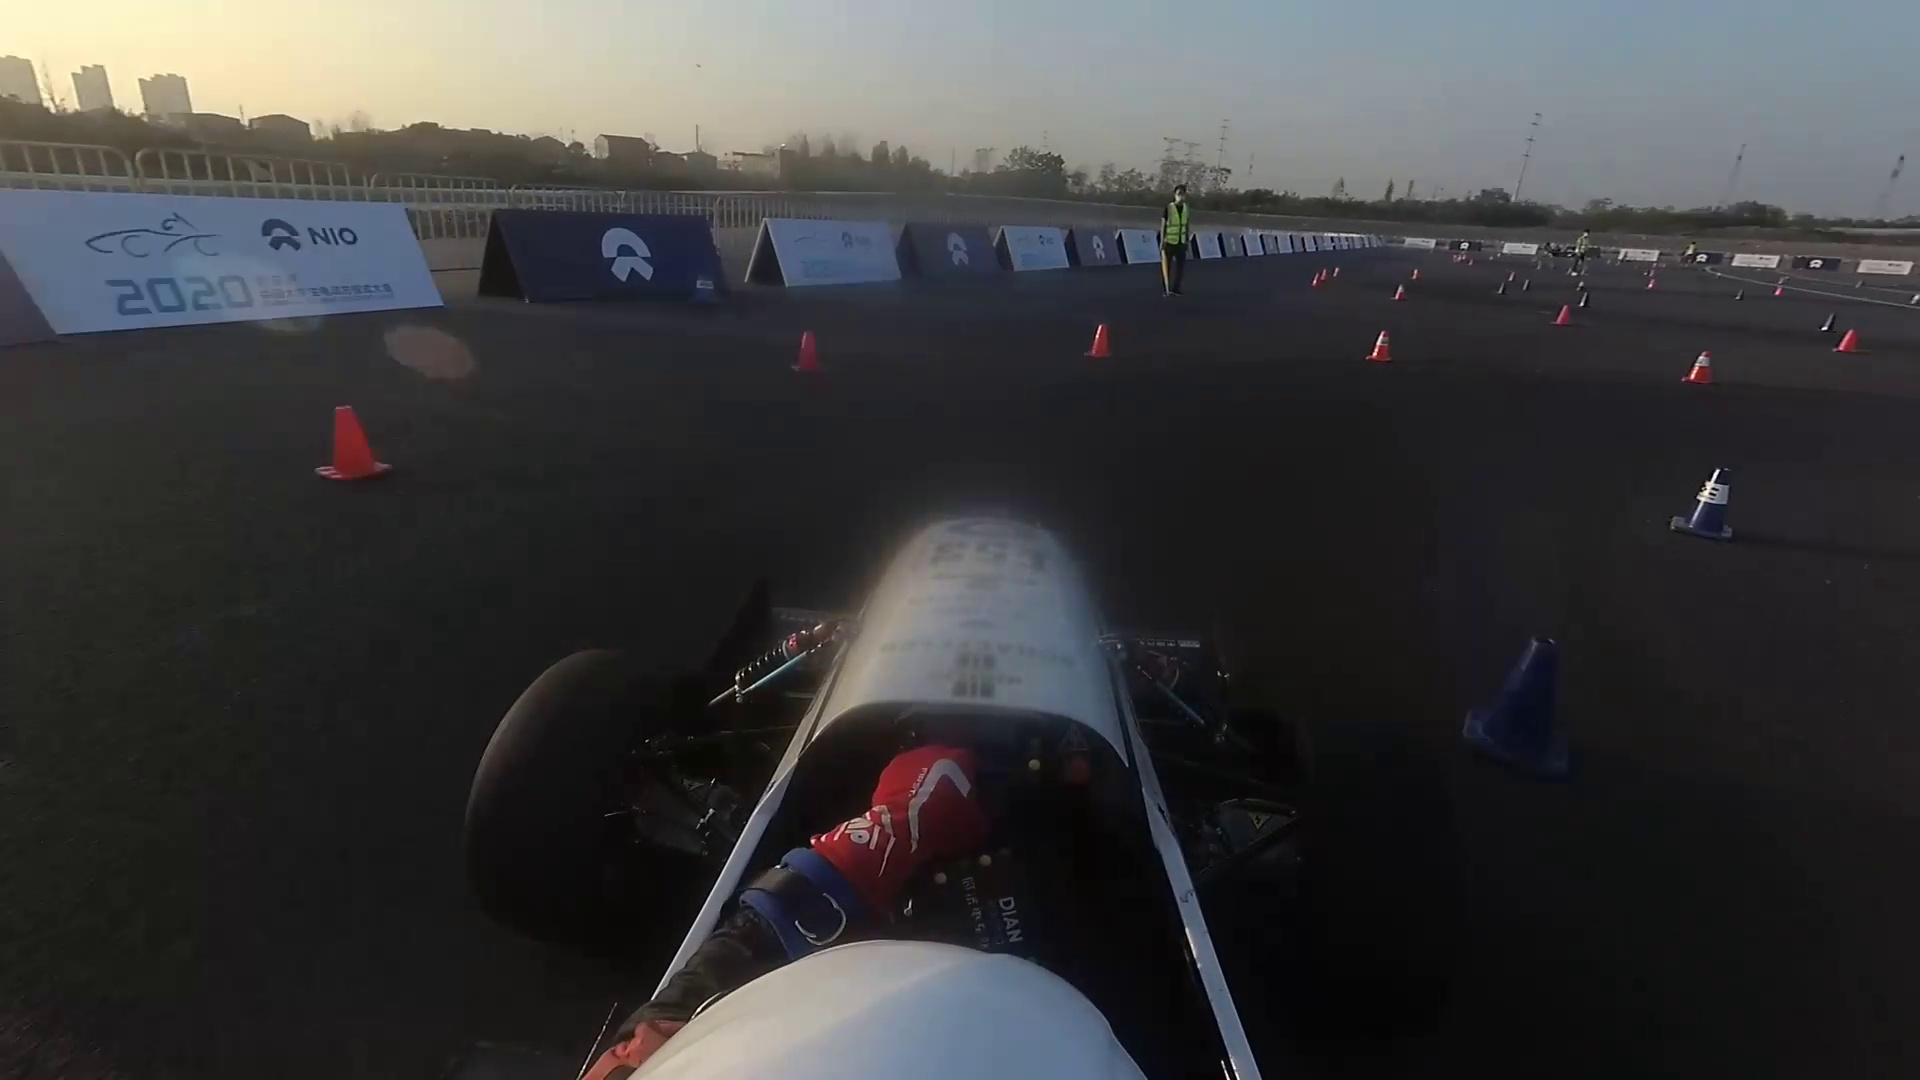blue_cone: (1465, 618, 1586, 775), (1672, 458, 1759, 553), (1818, 311, 1837, 332), (1578, 291, 1596, 306), (1576, 280, 1589, 293), (1495, 282, 1509, 295), (1523, 278, 1531, 293), (1735, 289, 1745, 301), (1509, 270, 1515, 285)
red_cone: (298, 409, 394, 484), (794, 330, 824, 377), (1087, 320, 1118, 363), (1684, 349, 1718, 386), (1365, 330, 1396, 364), (1836, 327, 1861, 356), (1553, 303, 1577, 330), (1391, 286, 1414, 302), (1311, 273, 1323, 287), (1412, 265, 1422, 282), (1320, 266, 1329, 282), (1335, 265, 1342, 282), (1771, 286, 1784, 295), (1648, 280, 1656, 290)
